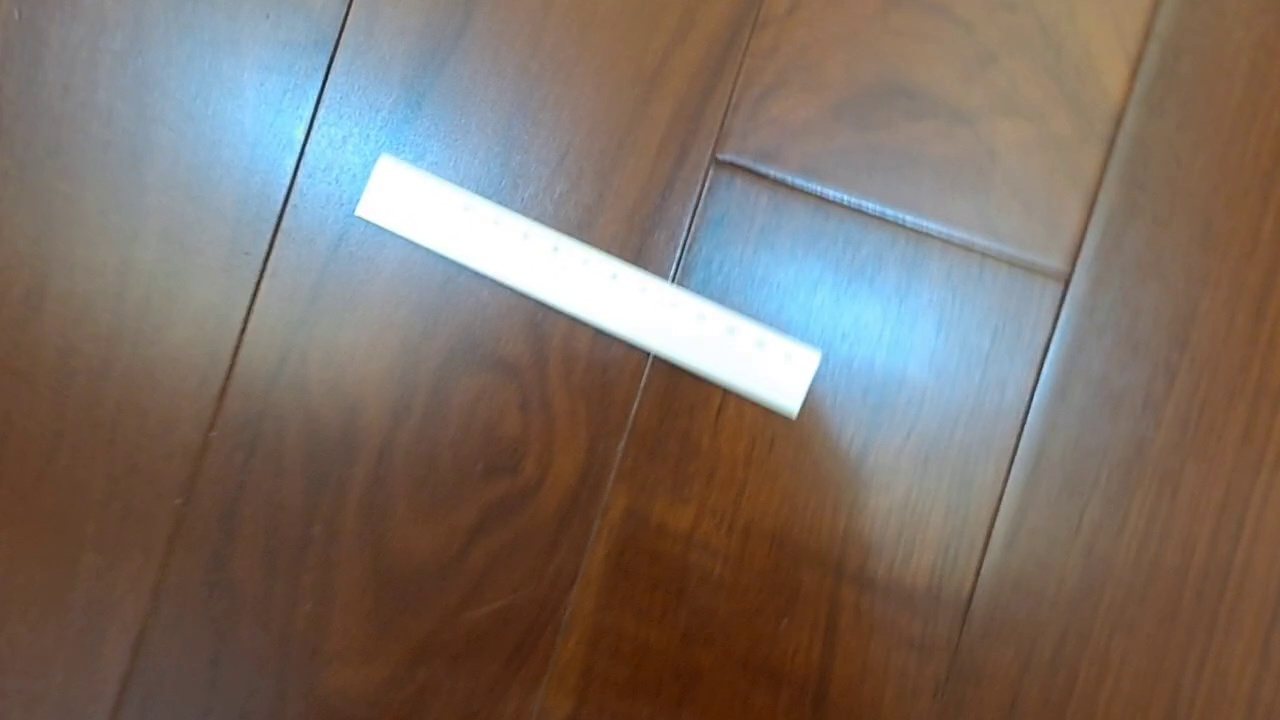ruler: (352, 146, 824, 423)
